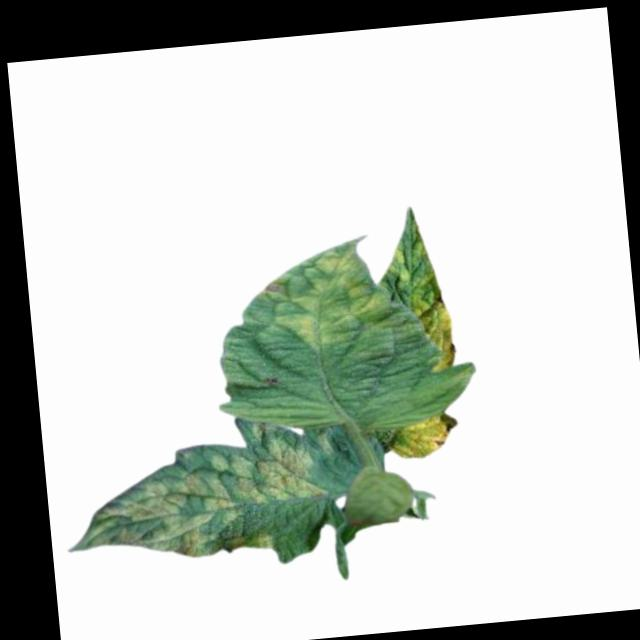Leaf_Mold: (57, 419, 321, 571), (260, 238, 392, 352), (412, 291, 460, 376), (386, 409, 459, 460)
